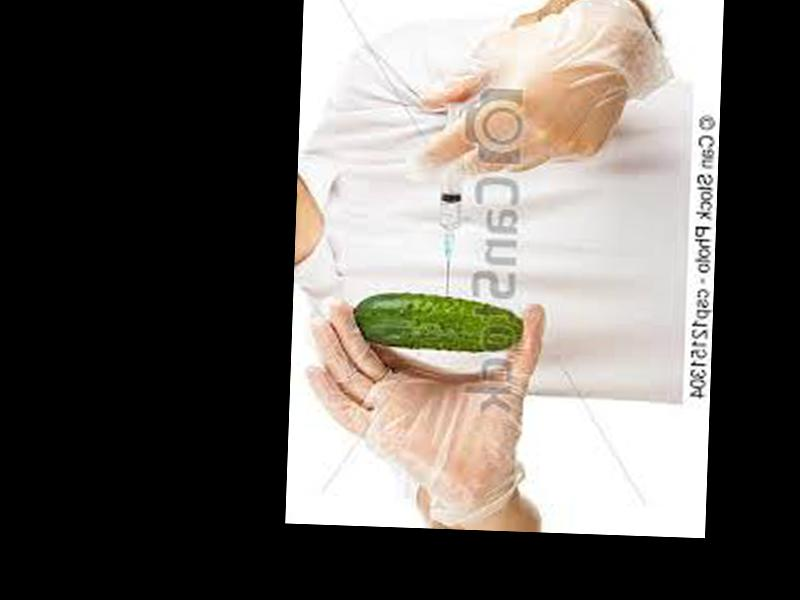Cucumber: (352, 293, 527, 355)
